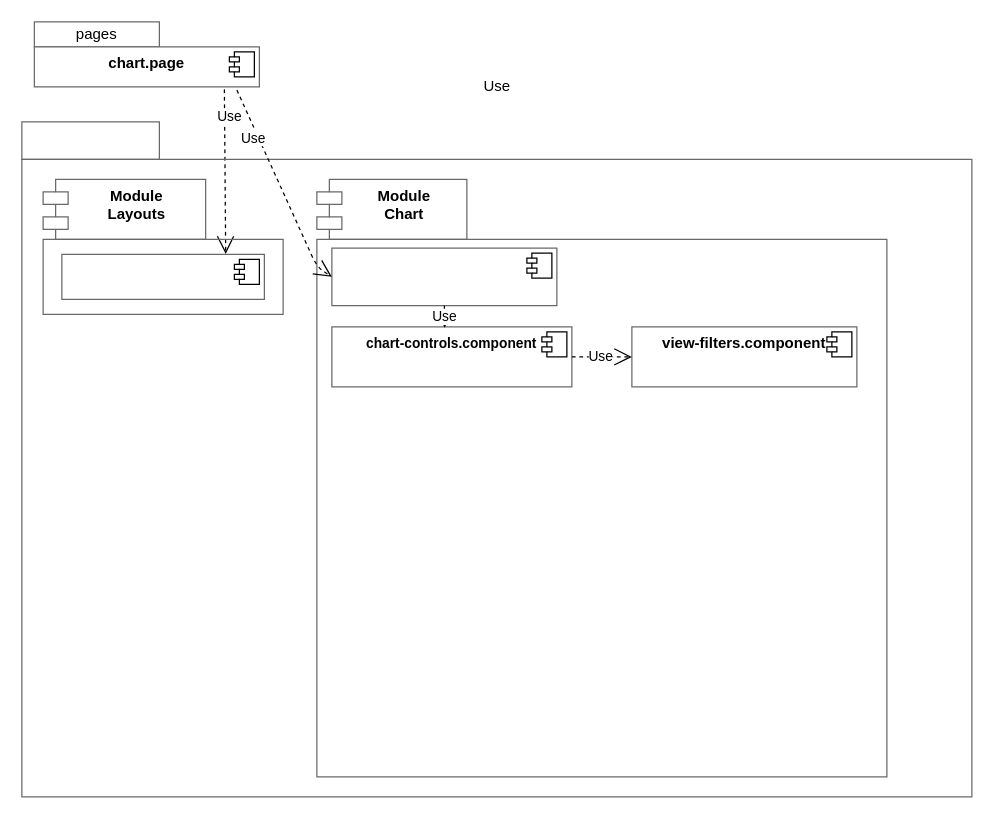
The diagram is 994 pixels wide and 819 high, and some of its shapes have lost their labels. The centre of each missing label's shape, as x and y in pixels:
"base.layout" belongs at (x=162, y=276).
"chart.component" belongs at (x=444, y=276).
"components" belongs at (x=90, y=140).
